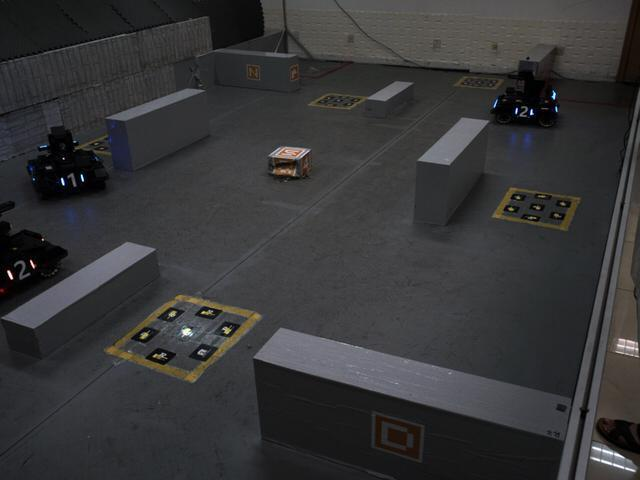armor: (3, 257, 40, 288), (55, 169, 86, 194), (511, 101, 539, 124)
